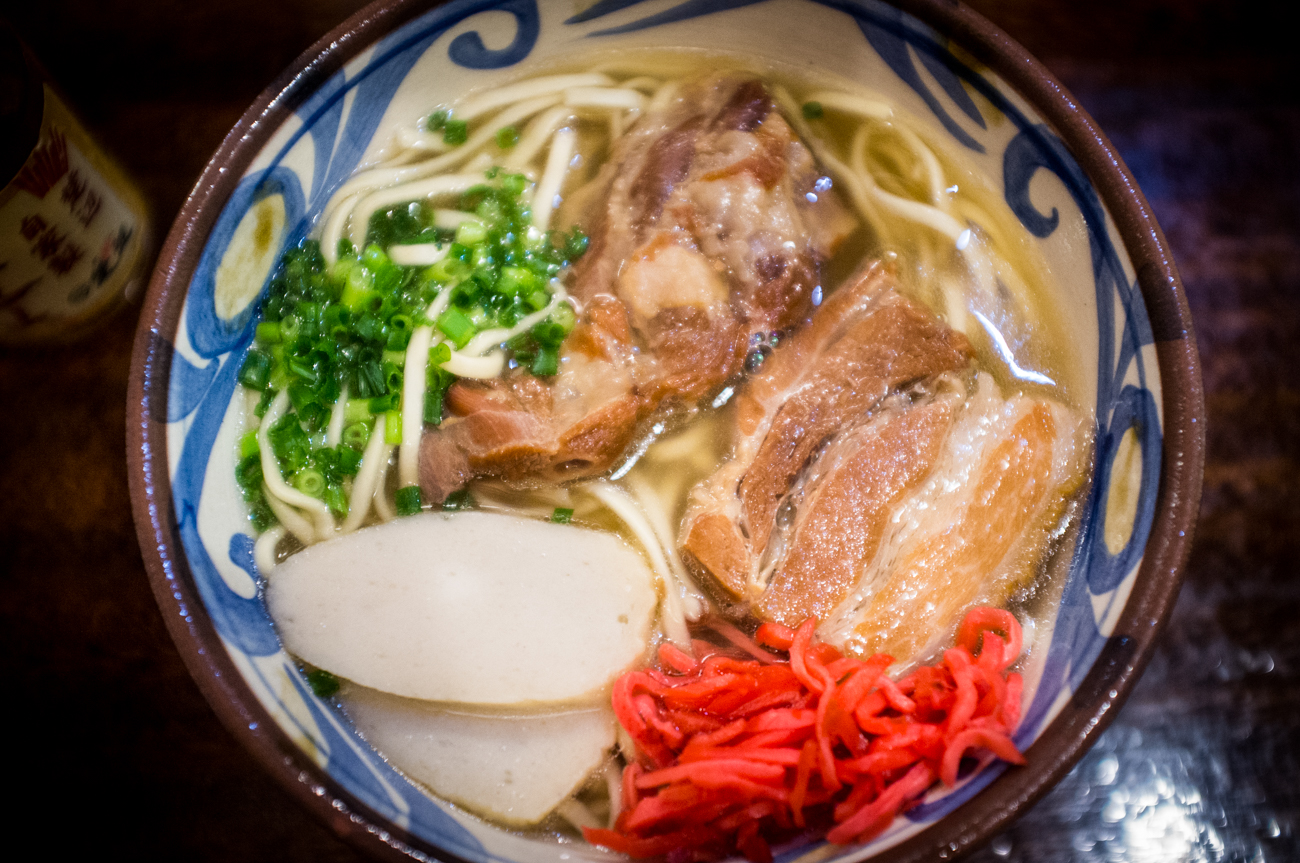Soba: (277, 63, 786, 656)
